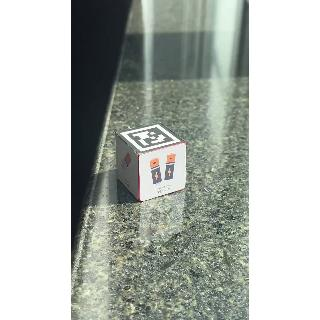Used_Battery: (139, 148, 193, 202)
